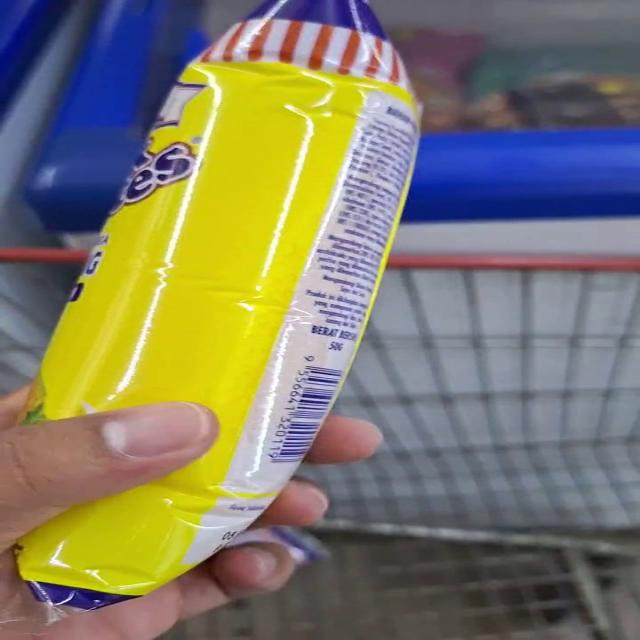Roti: (7, 8, 421, 605)
